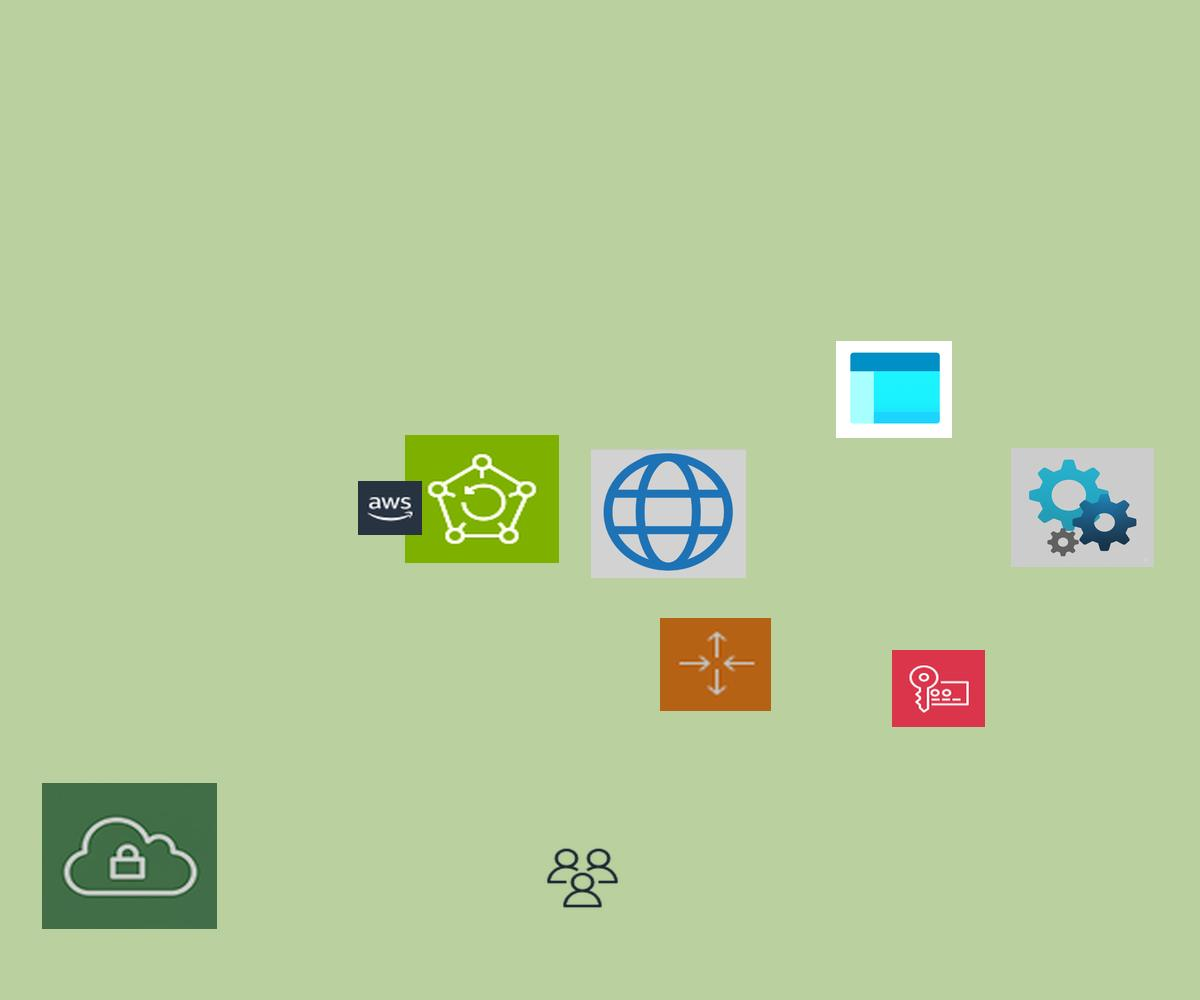AWS-Backup: (405, 435, 559, 563)
AWS-Cloud-logo: (358, 481, 422, 535)
AWS-Key-Management-Service: (892, 650, 985, 727)
AWS-Private_vpc: (42, 783, 217, 929)
AWS-Res_Users: (544, 846, 621, 910)
AWS-Scaling-group: (660, 618, 771, 711)
Azure_api: (1011, 448, 1154, 567)
Azure_http: (591, 449, 746, 578)
Azure_management-portal: (836, 341, 952, 438)
